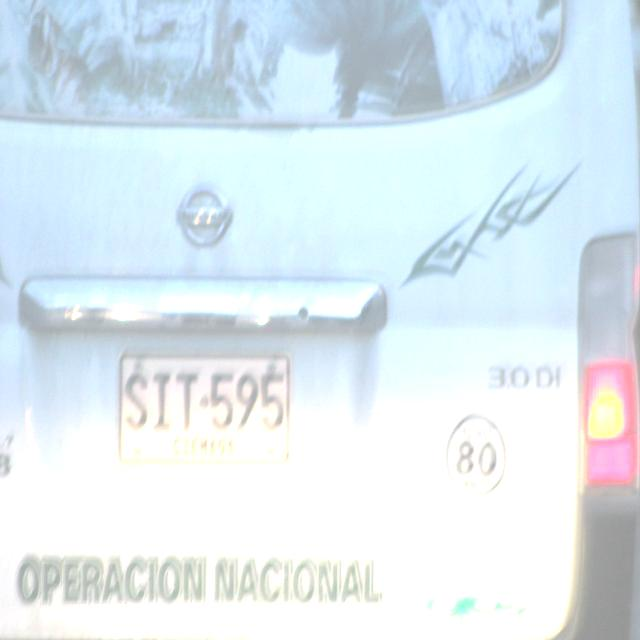placa: (114, 345, 294, 470)
